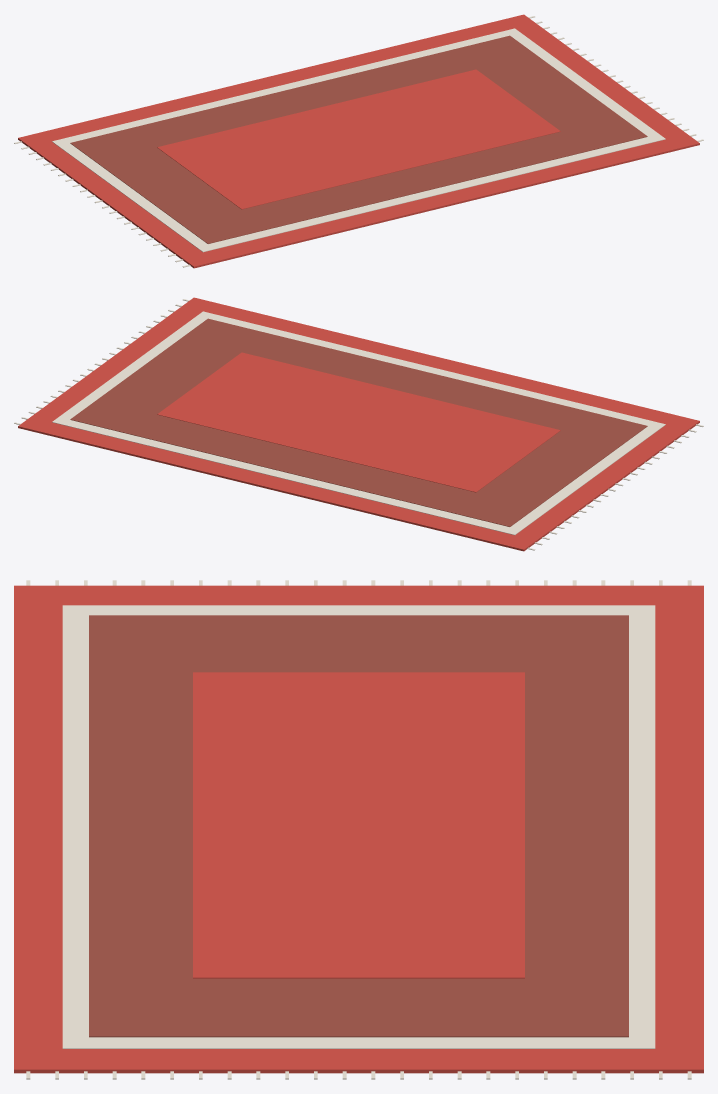
The model's file is rug.glb.
The picture shows the model from 3 angles, top to bottom: view 1: azimuth 30°, elevation 25°; view 2: azimuth 150°, elevation 25°; view 3: azimuth 270°, elevation 25°; orthographic projection. The views are drawn at different scales.
Visible parts, largest first — view 1: rug; view 2: rug; view 3: rug.
Part boxes in pixels (x1,y1,x2,y2): rug: (14, 14, 703, 268); rug: (14, 297, 703, 551); rug: (14, 580, 703, 1079).
Bounding box in the file's own units: 3.62 × 0.0205 × 2.12.
